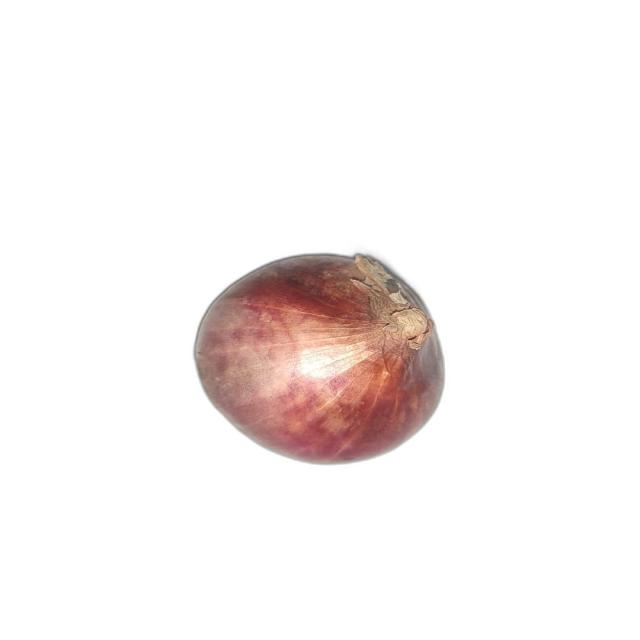onion: (194, 253, 446, 466)
